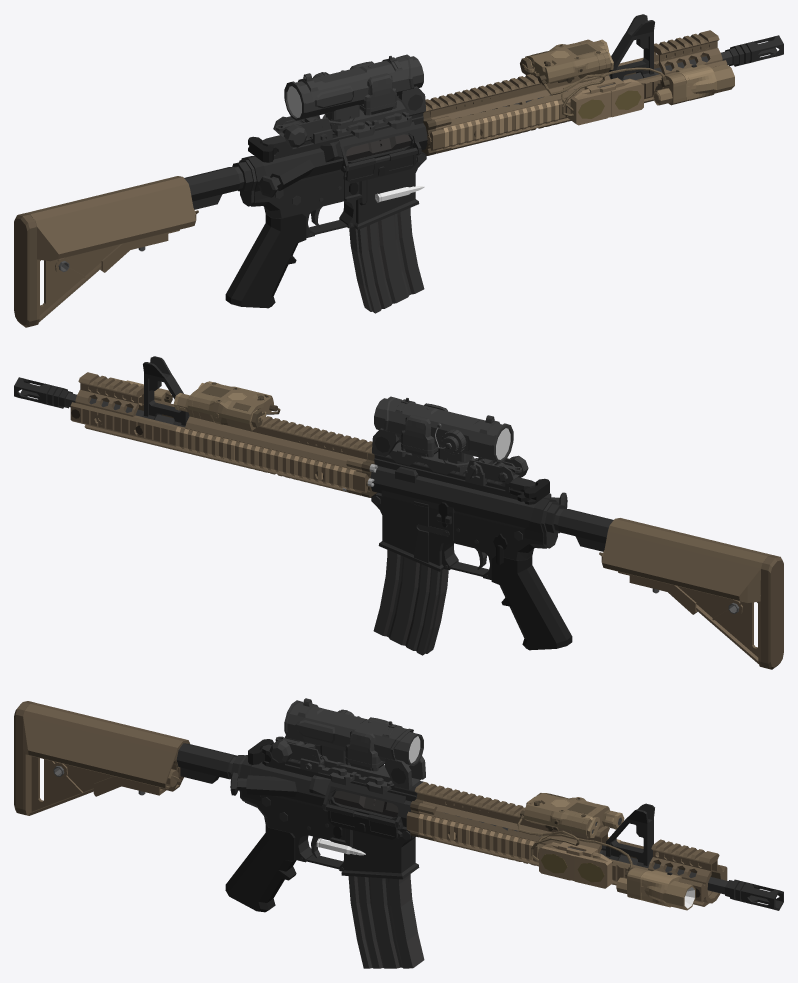
3 renders of one model, top to bottom at view 1: azimuth 30°, elevation 25°; view 2: azimuth 150°, elevation 25°; view 3: azimuth 330°, elevation 25°, orthographic.
Parts seen in each view (by area): view 1: LMT-SOPMOF, Upper+Lower-receiver, Upper-handguard, Scope, Magazine, Pistol-Grip, Laser, FlashLight, Pressure-Switch, Front-sight, Barrel + Muzzle, Rear-Sight (+2 smaller); view 2: Upper+Lower-receiver, LMT-SOPMOF, Upper-handguard, Scope, Magazine, Pistol-Grip, Laser, Front-sight, Barrel + Muzzle, Rear-Sight, Charging-handle; view 3: Upper+Lower-receiver, LMT-SOPMOF, Upper-handguard, Scope, Magazine, Pistol-Grip, Laser, FlashLight, Pressure-Switch, Barrel + Muzzle, Front-sight, Dust-cover (+2 smaller).
Boxes of the visible parts, x1,y1,x2,y2 form: LMT-SOPMOF: (14, 176, 198, 327); Upper+Lower-receiver: (184, 111, 427, 237); Upper-handguard: (421, 30, 727, 155); Scope: (284, 54, 425, 138); Magazine: (349, 148, 424, 313); Pistol-Grip: (225, 213, 306, 308); Laser: (520, 39, 613, 116); FlashLight: (561, 64, 734, 111); Pressure-Switch: (568, 77, 643, 125); Front-sight: (608, 14, 655, 80); Barrel + Muzzle: (456, 35, 783, 118); Rear-Sight: (273, 115, 332, 147); Upper+Lower-receiver: (370, 453, 613, 579); LMT-SOPMOF: (599, 518, 783, 669); Upper-handguard: (70, 372, 377, 497); Scope: (372, 396, 513, 474); Magazine: (373, 524, 448, 655); Pistol-Grip: (491, 556, 572, 650); Laser: (173, 381, 280, 430); Front-sight: (142, 356, 189, 427); Barrel + Muzzle: (14, 377, 174, 424); Rear-Sight: (465, 455, 528, 486); Charging-handle: (509, 478, 549, 504); Upper+Lower-receiver: (176, 743, 423, 879); LMT-SOPMOF: (14, 701, 189, 815); Upper-handguard: (406, 782, 727, 906); Scope: (284, 698, 425, 794); Magazine: (348, 808, 424, 968); Pistol-Grip: (225, 824, 296, 912); Laser: (517, 793, 624, 861); FlashLight: (536, 833, 695, 910); Pressure-Switch: (539, 842, 614, 888); Barrel + Muzzle: (444, 812, 783, 910); Front-sight: (602, 803, 655, 867); Dust-cover: (326, 804, 397, 839).
Size of the model in its own units: 885 by 279 by 97.22.
